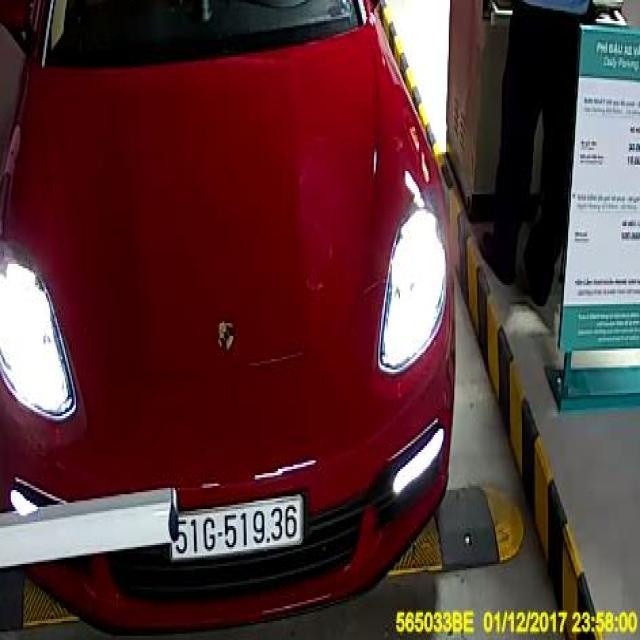bien_so_oto: (172, 494, 303, 560)
